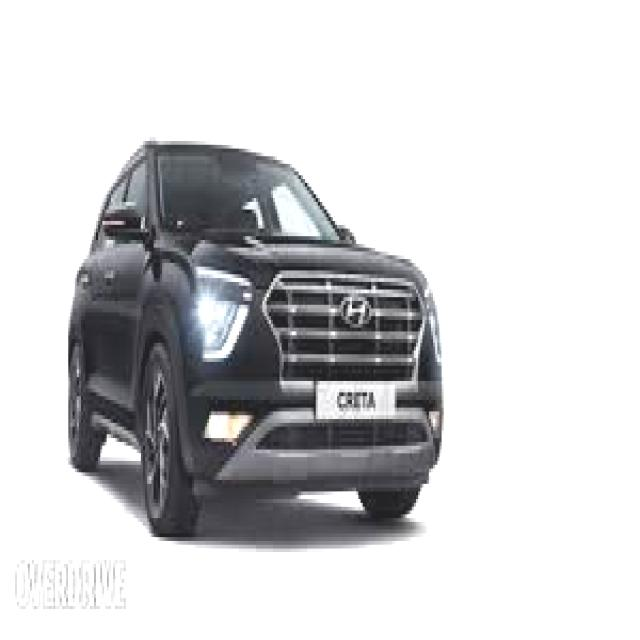SUV: (67, 134, 447, 536)
